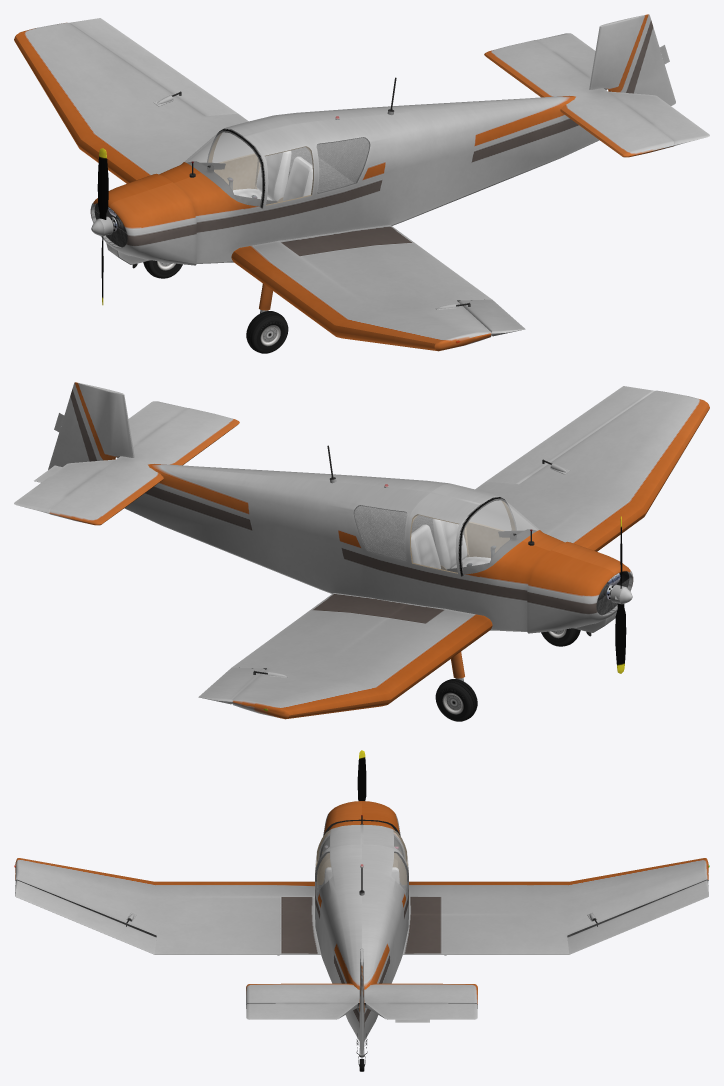
File: jodel_d.112_d11_variant.glb
3 views of the same model, one above another, from view 1: azimuth 30°, elevation 25°; view 2: azimuth 150°, elevation 25°; view 3: azimuth 270°, elevation 25° (orthographic). The views are drawn at different scales.
Parts seen in each view (by area): view 1: Object_12, Object_8, Object_11, Object_31, Object_25, Object_19, Object_2; view 2: Object_12, Object_11, Object_8, Object_31, Object_25, Object_19, Object_2; view 3: Object_12, Object_8, Object_11, Object_31, Object_25.
Boxes of the visible parts, x1,y1,x2,y2 form: Object_12: (14, 22, 669, 351); Object_8: (69, 14, 709, 306); Object_11: (91, 40, 674, 353); Object_31: (184, 130, 369, 206); Object_25: (207, 130, 370, 206); Object_19: (233, 150, 312, 201); Object_2: (187, 161, 276, 205); Object_12: (34, 390, 709, 719); Object_11: (49, 386, 654, 721); Object_8: (14, 382, 626, 704); Object_31: (354, 498, 539, 574); Object_25: (353, 498, 516, 574); Object_19: (411, 518, 490, 569); Object_2: (447, 529, 536, 573); Object_12: (15, 801, 708, 1040); Object_8: (126, 750, 708, 1055); Object_11: (15, 815, 708, 1071); Object_31: (315, 831, 408, 895); Object_25: (315, 830, 408, 897).
Bounding box in the file's own units: 6.49 × 2.07 × 8.21.
Materials: 27 (23 with a texture image).
